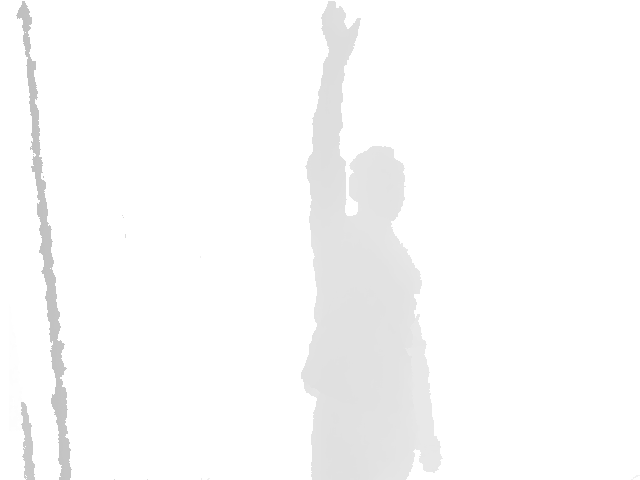hand: (320, 1, 361, 60)
hand_down: (416, 436, 444, 474)
head: (347, 144, 406, 223)
person: (301, 1, 444, 480)
